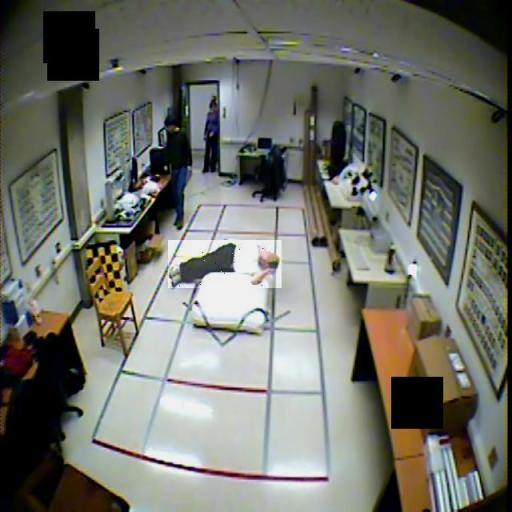Fall: (168, 240, 282, 288)
